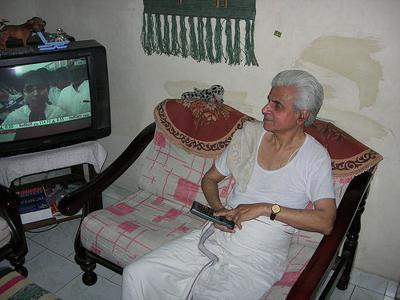person: (121, 70, 338, 300)
